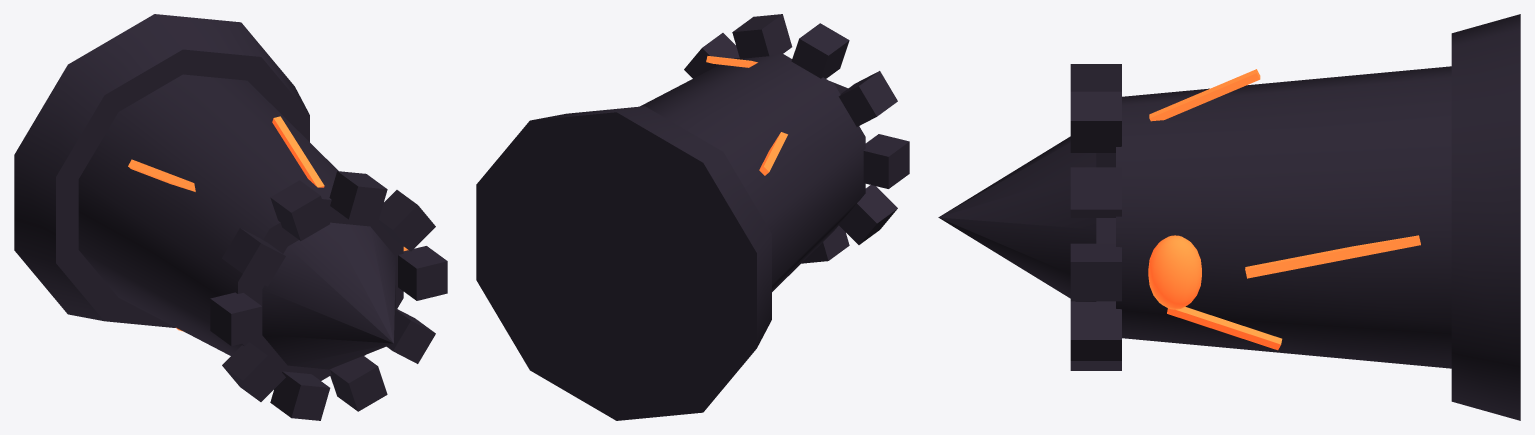
File: stronghold.glb
The picture shows the model from 3 angles, left to right: view 1: azimuth 30°, elevation 25°; view 2: azimuth 150°, elevation 25°; view 3: azimuth 270°, elevation 25°; orthographic projection. The views are drawn at different scales.
Parts seen in each view (by area): view 1: Walls, Cracks; view 2: Walls, Cracks; view 3: Walls, Cracks, Eye.
Part boxes in pixels (<box>): Walls: <box>14,14,447,420</box>; Cracks: <box>128,116,324,331</box>; Walls: <box>476,14,909,420</box>; Cracks: <box>706,56,787,175</box>; Walls: <box>938,14,1520,420</box>; Cracks: <box>1149,69,1420,350</box>; Eye: <box>1148,235,1201,309</box>.
Size of the model in its own units: 2 by 2.1 by 2.95.
